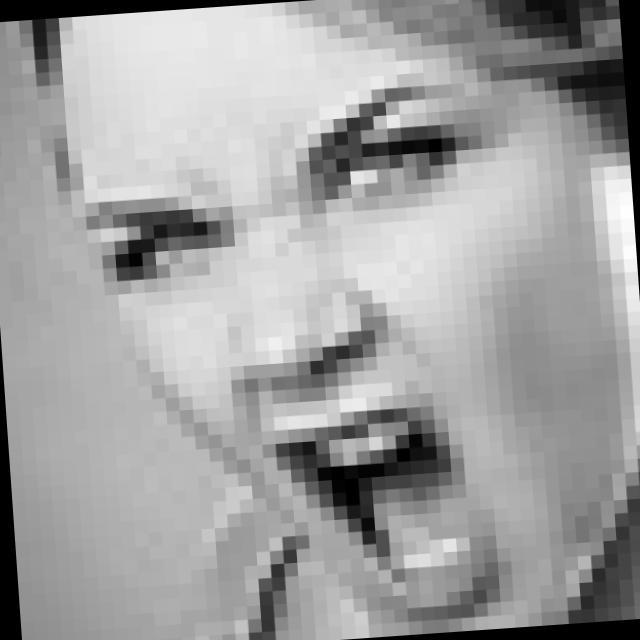angry: (77, 69, 520, 628)
